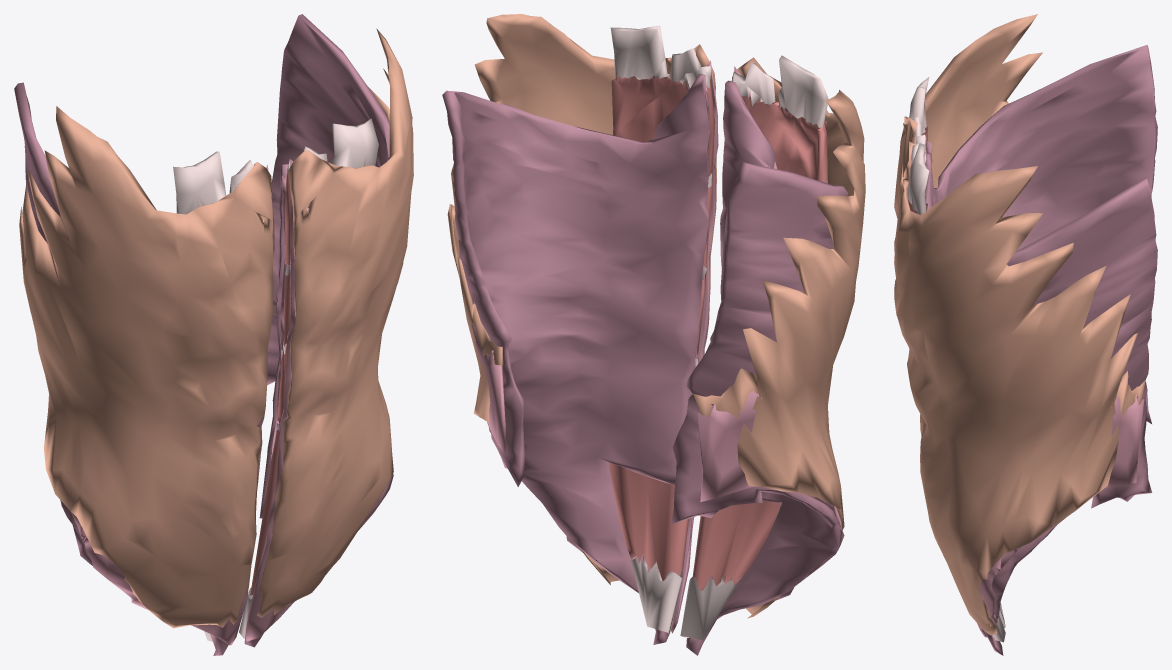
The model's file is decimate-05.glb.
The picture shows the model from 3 angles, left to right: view 1: azimuth 30°, elevation 25°; view 2: azimuth 150°, elevation 25°; view 3: azimuth 270°, elevation 25°; orthographic projection. The views are drawn at different scales.
Visible parts, largest first — view 1: external_r, external_l, transversus_l, rectus_l, internal_l, transversus_r, rectus_r, internal_r; view 2: transversus_l, transversus_r, external_r, rectus_l, rectus_r, external_l, internal_r, internal_l; view 3: external_l, transversus_r, transversus_l, external_r, internal_l, rectus_l, rectus_r.
Part boxes in pixels (box(x1,y1,x2,y2)): external_r: box(19, 106, 274, 628); external_l: box(257, 28, 413, 617); transversus_l: box(244, 14, 389, 647); rectus_l: box(239, 118, 378, 638); internal_l: box(246, 159, 393, 641); transversus_r: box(14, 82, 228, 655); rectus_r: box(173, 151, 253, 641); internal_r: box(71, 165, 274, 645); transversus_l: box(442, 73, 709, 644); transversus_r: box(670, 80, 847, 655); external_r: box(693, 57, 865, 618); rectus_l: box(609, 25, 715, 633); rectus_r: box(680, 55, 828, 639); external_l: box(447, 14, 717, 584); internal_r: box(697, 66, 844, 619); internal_l: box(471, 60, 718, 633); external_l: box(894, 141, 1145, 635); transversus_r: box(926, 45, 1157, 423); transversus_l: box(925, 152, 1157, 655); external_r: box(894, 14, 1042, 436); internal_l: box(909, 143, 1144, 637); rectus_l: box(907, 143, 1005, 642); rectus_r: box(908, 77, 1005, 627).
Bounding box in the file's own units: 0.282 × 0.4372 × 0.188.
